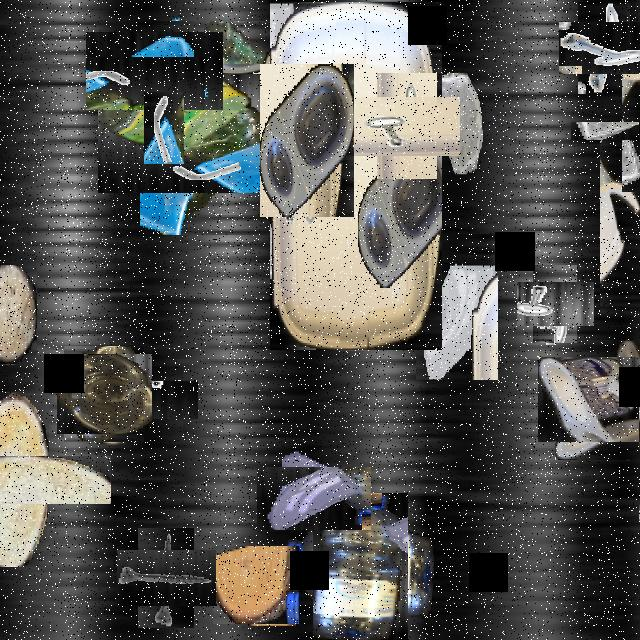glass: (416, 234, 498, 380), (100, 17, 208, 125), (270, 453, 358, 542), (428, 73, 484, 172), (596, 96, 640, 166)
metal: (366, 84, 448, 168), (127, 539, 205, 617), (568, 12, 640, 84), (524, 274, 586, 334), (144, 92, 184, 164), (137, 374, 190, 426)
plastic: (270, 2, 442, 350), (119, 42, 291, 214), (299, 506, 421, 628), (260, 64, 354, 217), (546, 348, 640, 451), (60, 351, 148, 438), (600, 124, 640, 313)
wood: (0, 424, 80, 535), (213, 546, 299, 624), (0, 265, 37, 364), (615, 466, 640, 514)
